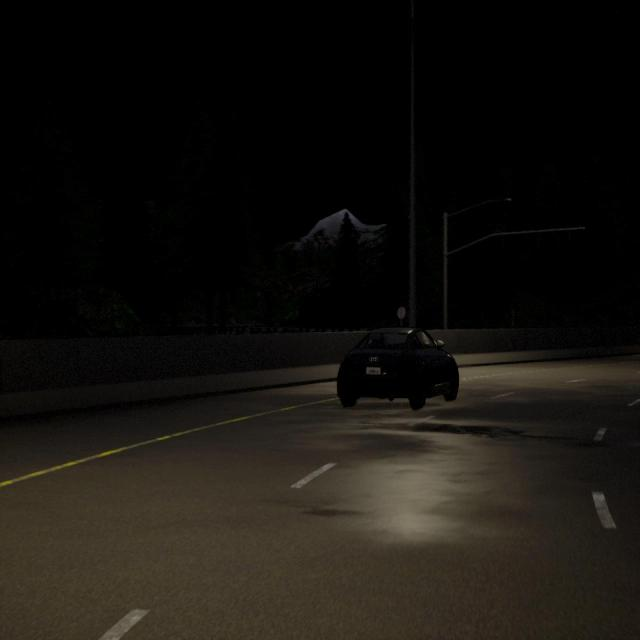Traffic_Signs: (397, 307, 406, 319)
Vehicle: (336, 326, 458, 412)
